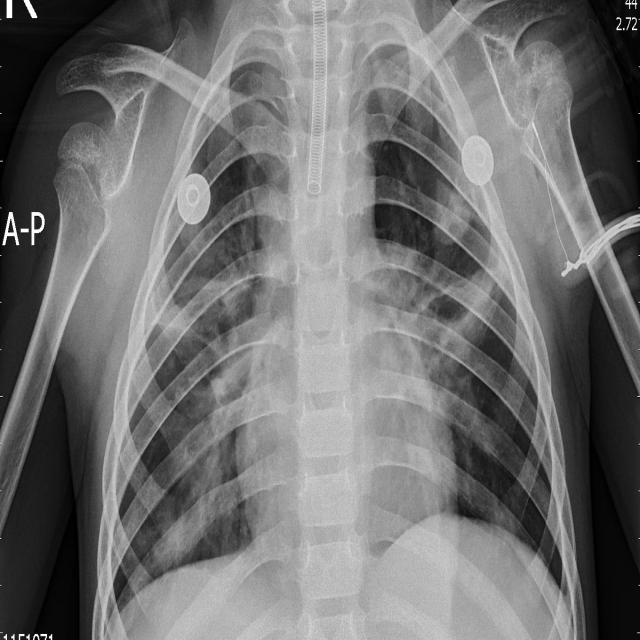low-pneumonia: (381, 256, 501, 457), (150, 326, 250, 565), (370, 37, 484, 237), (230, 44, 295, 195), (200, 244, 259, 324)
